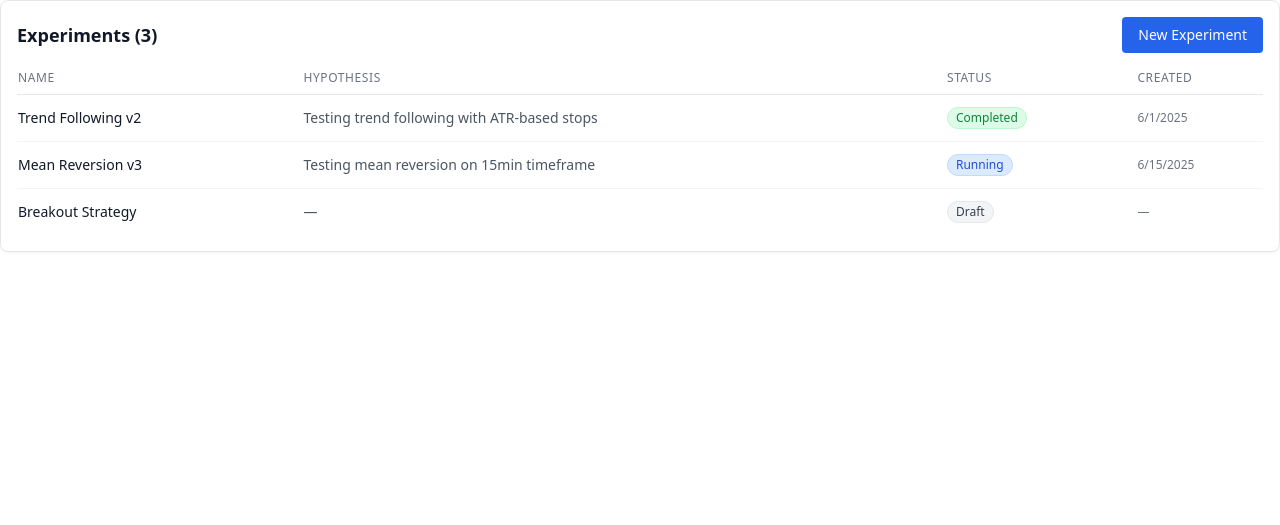
Scenario: ExperimentList — success state › opens create form when "New Experiment" is clicked
Click the button "New Experiment" at (1193, 35), box [1122,17,1263,53]
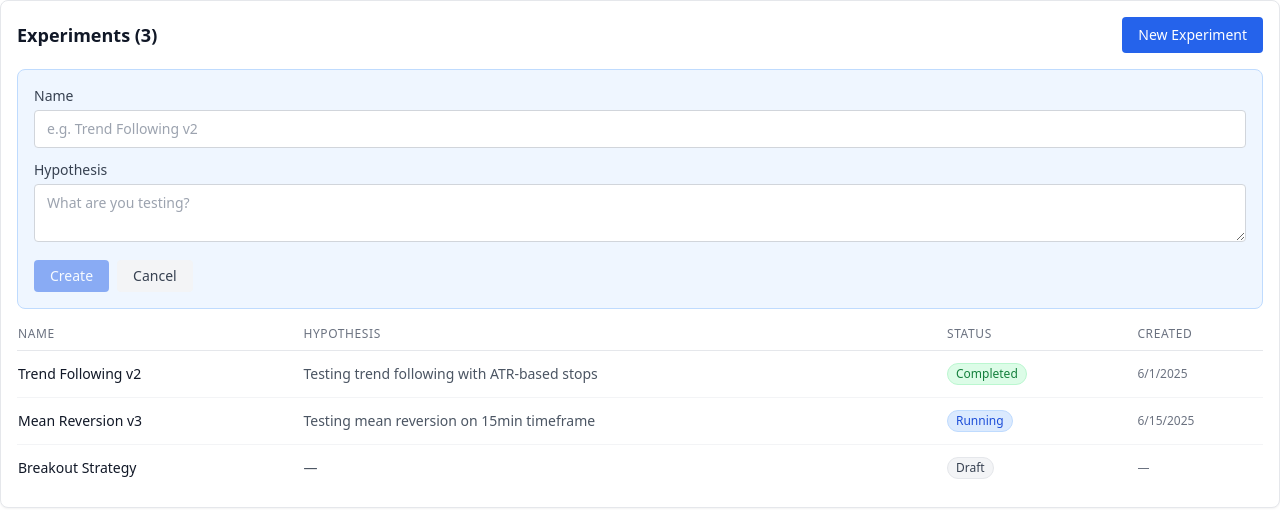
Expected: the field labelled "Name" is shown, [34,110,1246,148]
Expected: the text box labelled "Hypothesis" is shown, [34,184,1246,242]
Expected: the button "Create" is shown, [34,260,109,292]
